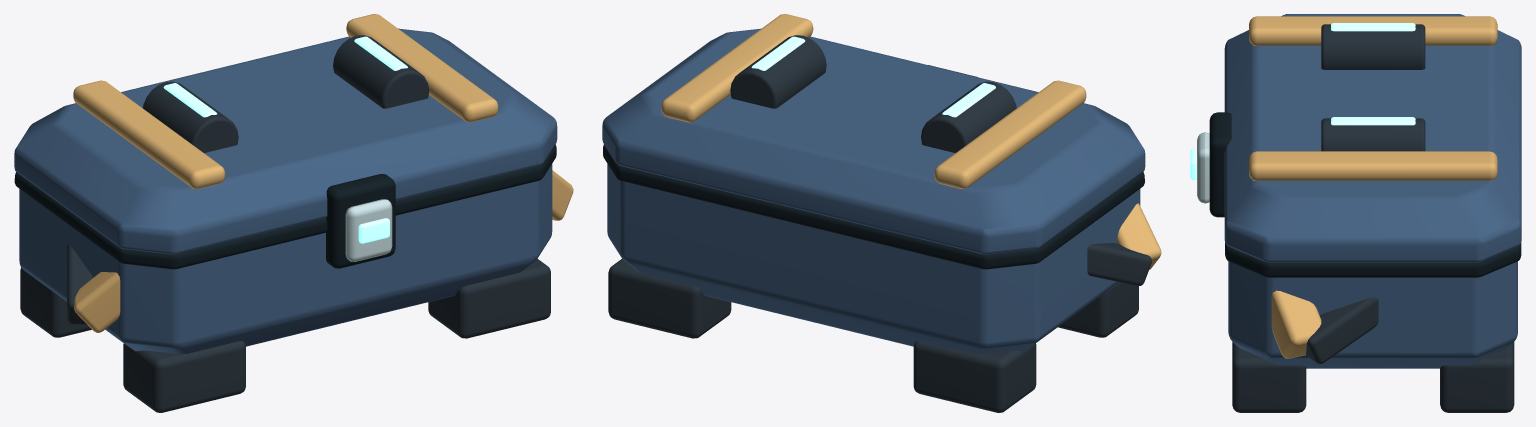
File: salvage_cache.glb
3 views of the same model, side by side, from view 1: azimuth 30°, elevation 25°; view 2: azimuth 150°, elevation 25°; view 3: azimuth 270°, elevation 25° (orthographic).
Parts seen in each view (by area): view 1: Airfreight drop case; view 2: Airfreight drop case; view 3: Airfreight drop case.
Part boxes in pixels (box(x1,y1,x2,y2)): Airfreight drop case: box(14, 14, 573, 412); Airfreight drop case: box(602, 14, 1161, 412); Airfreight drop case: box(1190, 14, 1521, 412).
Size of the model in its own units: 1.57 by 0.729 by 0.893.
